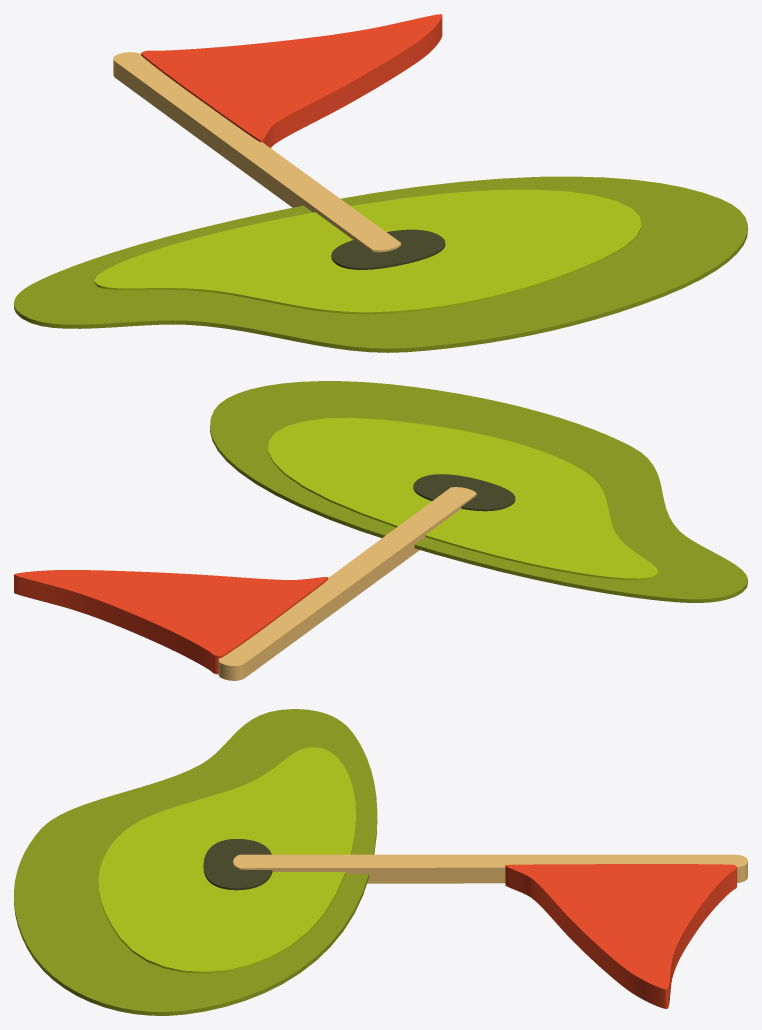
The model's file is emoji_u26f3.glb.
The picture shows the model from 3 angles, top to bottom: view 1: azimuth 30°, elevation 25°; view 2: azimuth 150°, elevation 25°; view 3: azimuth 270°, elevation 25°; orthographic projection. The views are drawn at different scales.
Visible parts, largest first — view 1: emoji_u26f3; view 2: emoji_u26f3; view 3: emoji_u26f3.
Boxes of the visible parts, x1,y1,x2,y2 form: emoji_u26f3: (14, 14, 747, 352); emoji_u26f3: (14, 381, 747, 680); emoji_u26f3: (14, 709, 747, 1015).
Bounding box in the file's own units: 0.0331 × 0.001 × 0.0339.
